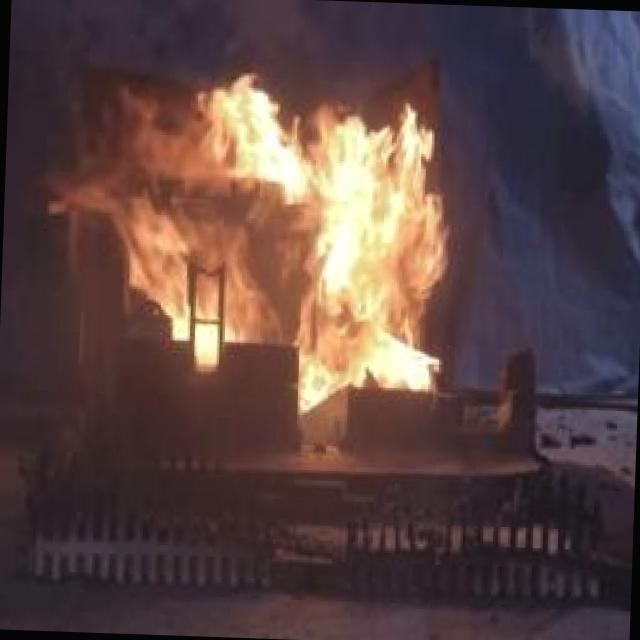fire: (75, 52, 462, 406)
